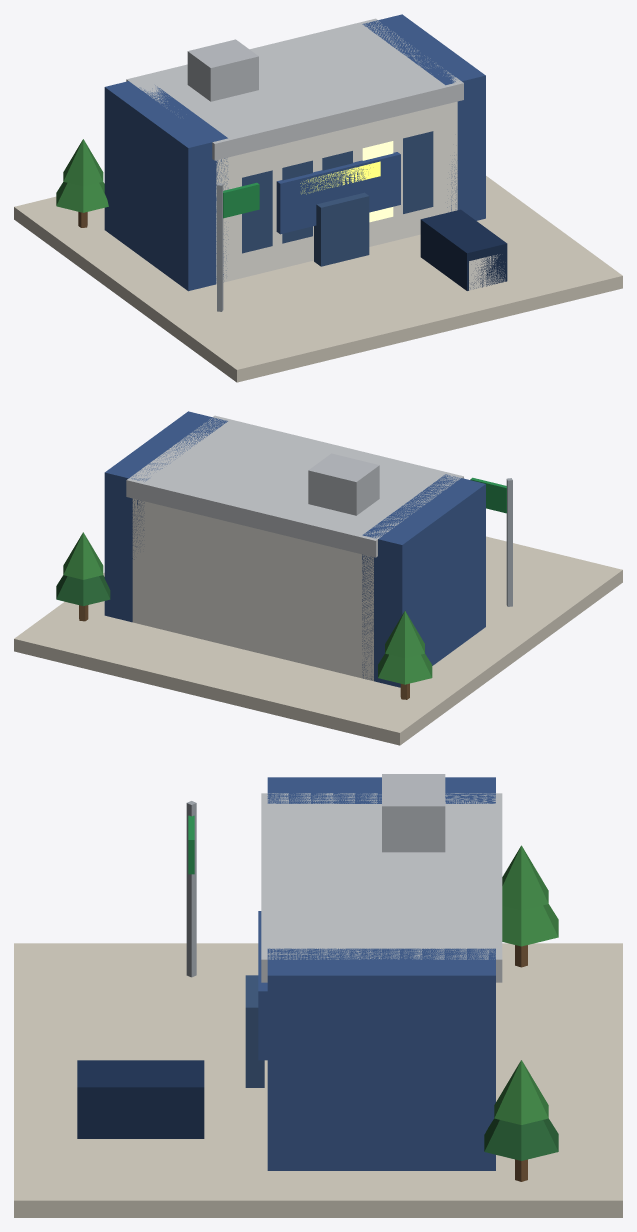
3 renders of one model, top to bottom at view 1: azimuth 30°, elevation 25°; view 2: azimuth 150°, elevation 25°; view 3: azimuth 270°, elevation 25°, orthographic. The views are drawn at different scales.
Visible parts, largest first — view 1: b24; view 2: b24; view 3: b24.
Boxes of the visible parts, <box> form: b24: <box>14,14,622,382</box>; b24: <box>14,411,622,745</box>; b24: <box>14,774,622,1217</box>.
Size of the model in its own units: 0.96 by 0.45 by 0.96.
